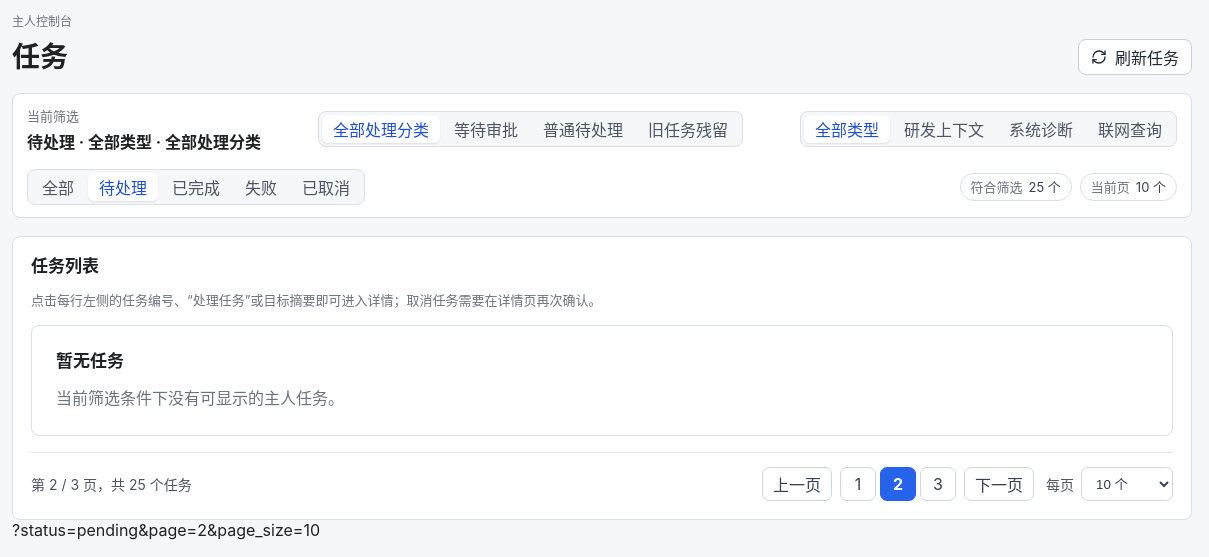
pending list URL filters › loads a URL-selected page and navigates through server pagination
Expected: the text "第 2 / 3 页，共 25 个任务" is shown, [31,474,192,494]
Click the button "下一页": click(999, 484) [964,468,1034,502]
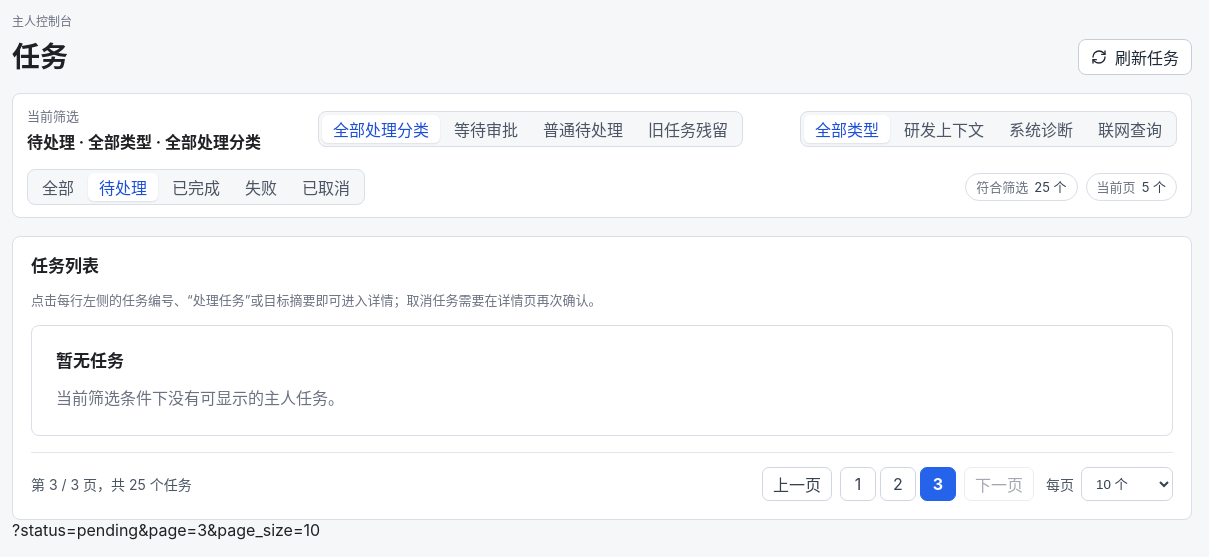
Expected: the text named "current search" shows "page=3", [12,520,320,540]
Click the button "上一页": click(797, 484) [762,468,832,502]
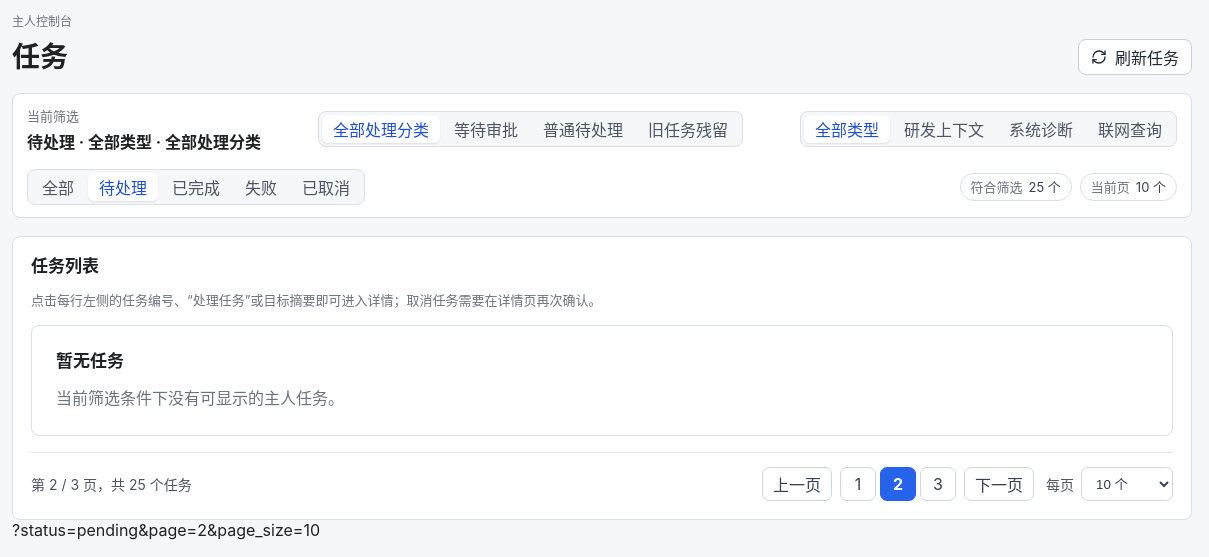
Expected: the text named "current search" shows "page=2", [12,520,320,540]
